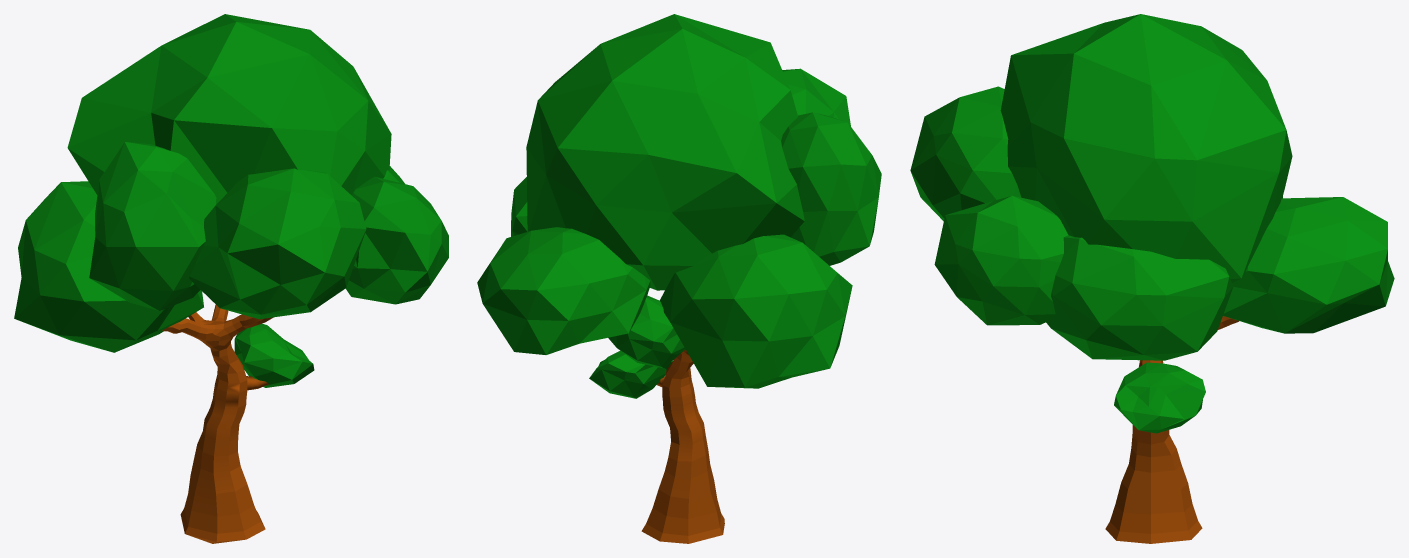
File: tree3.glb
3 views of the same model, side by side, from view 1: azimuth 30°, elevation 25°; view 2: azimuth 150°, elevation 25°; view 3: azimuth 270°, elevation 25° (orthographic). The views are drawn at different scales.
Parts seen in each view (by area): view 1: Icosphere.001, Icosphere.007, Icosphere.002, Icosphere.003, Plane, Icosphere.006, Icosphere.009; view 2: Icosphere.001, Icosphere.003, Icosphere.004, Icosphere.002, Plane, Icosphere.008, Icosphere.009, Icosphere.007, Icosphere.005; view 3: Icosphere.001, Icosphere.005, Icosphere.004, Icosphere.006, Icosphere.007, Plane, Icosphere.009.
Boxes of the visible parts, <box> form: Icosphere.001: <box>67,14,391,203</box>; Icosphere.007: <box>189,168,366,319</box>; Icosphere.002: <box>89,142,216,310</box>; Icosphere.003: <box>14,181,203,352</box>; Plane: <box>162,304,273,543</box>; Icosphere.006: <box>345,176,448,304</box>; Icosphere.009: <box>234,323,314,387</box>; Icosphere.001: <box>526,14,804,290</box>; Icosphere.003: <box>659,234,852,388</box>; Icosphere.004: <box>477,227,650,354</box>; Icosphere.002: <box>781,112,881,265</box>; Plane: <box>641,349,724,543</box>; Icosphere.008: <box>608,295,685,368</box>; Icosphere.009: <box>589,350,672,398</box>; Icosphere.007: <box>782,68,850,126</box>; Icosphere.005: <box>511,177,527,236</box>; Icosphere.001: <box>1000,14,1292,282</box>; Icosphere.005: <box>1046,235,1233,360</box>; Icosphere.004: <box>1223,197,1394,333</box>; Icosphere.006: <box>934,195,1068,325</box>; Icosphere.007: <box>910,86,1021,221</box>; Plane: <box>1105,316,1239,543</box>; Icosphere.009: <box>1114,362,1205,433</box>.
Size of the model in its own units: 13.88 by 19.03 by 16.
